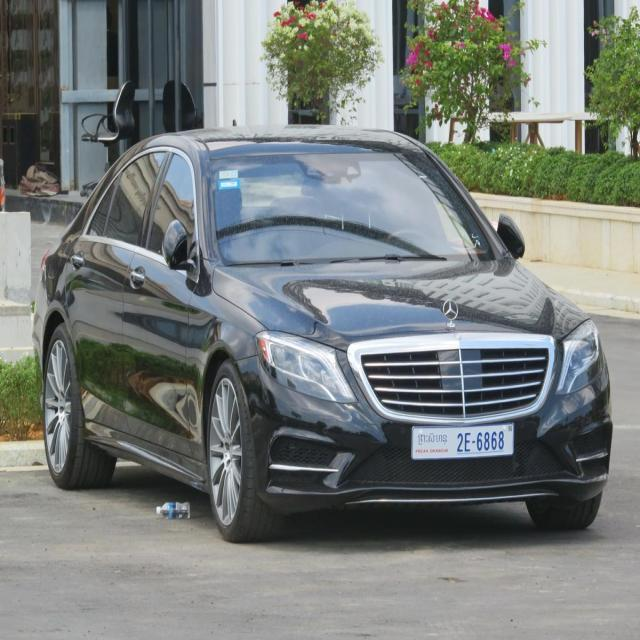Preah_Sihanouk: (418, 430, 451, 446)
